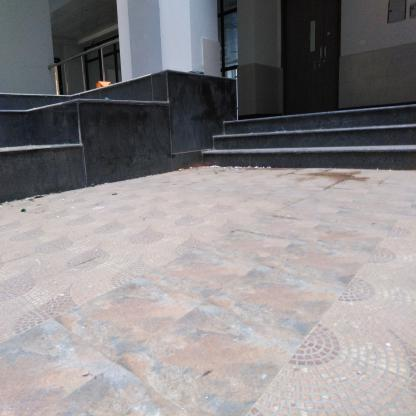stairs: (228, 119, 416, 178)
